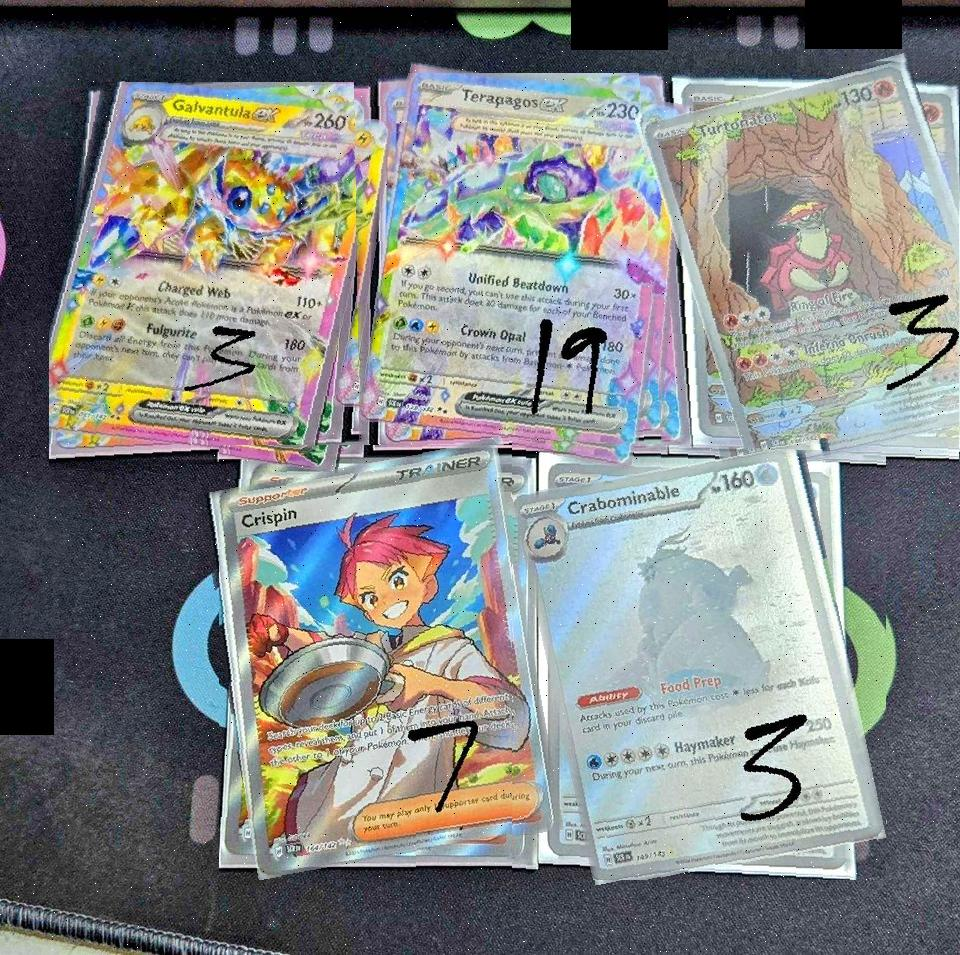card: (513, 450, 886, 880), (220, 445, 556, 880), (643, 62, 960, 469), (49, 82, 390, 458), (360, 73, 681, 452)
